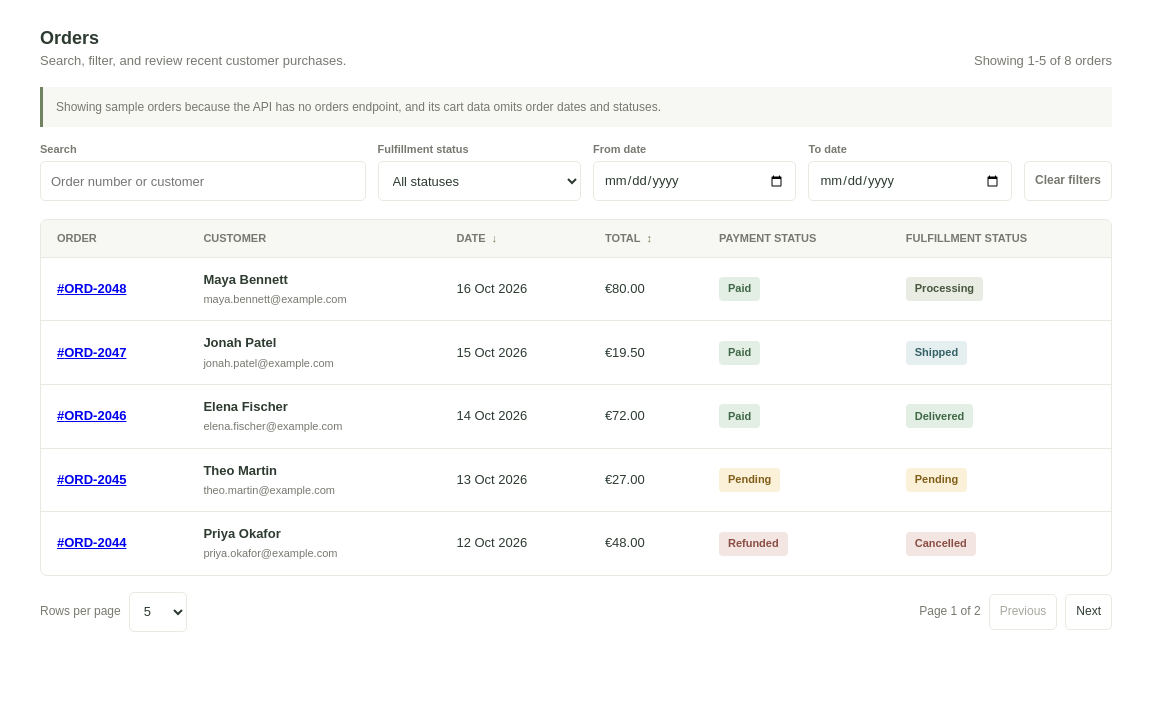
Test case: Orders workflows › filters the list and navigates to the selected order details
The width and height of the screenshot is (1152, 715).
Check: the table named "Orders with customer" is shown, box [41,220,1111,575]
Type "ORD-2046" into the search field labelled "Search" at coordinates (203, 181), box [40,161,366,201]
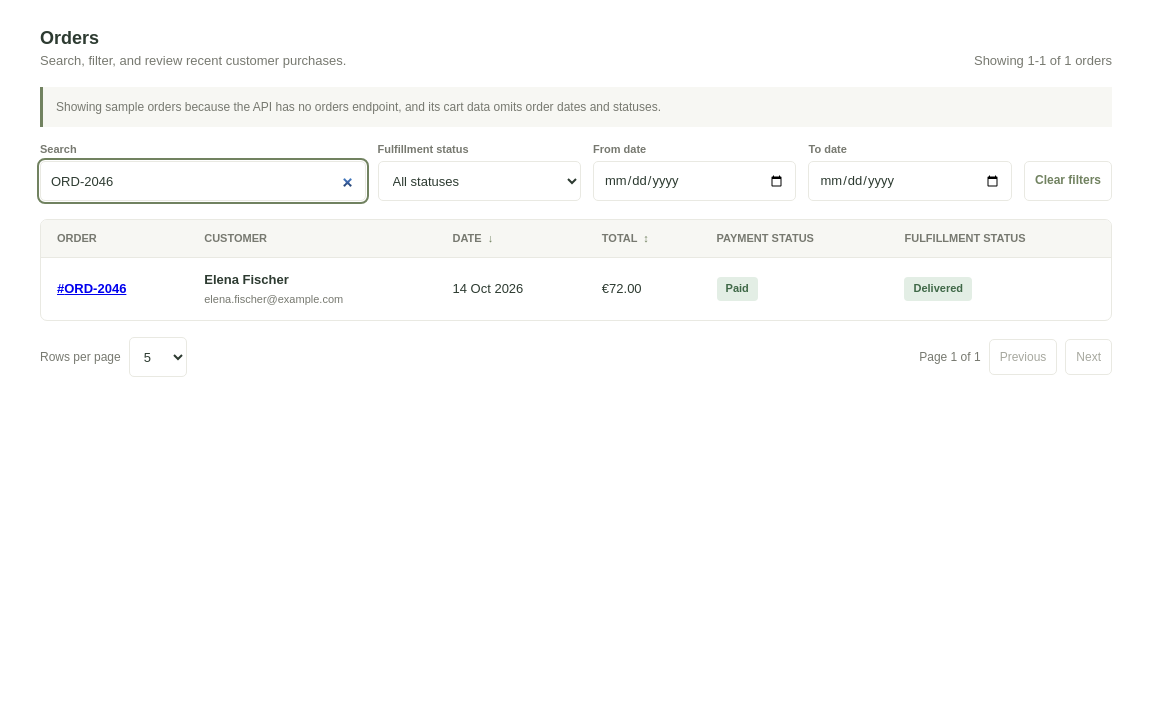
Select "Delivered" in the dropdown labelled "Fulfillment status" at coordinates (479, 181), box [378,161,581,201]
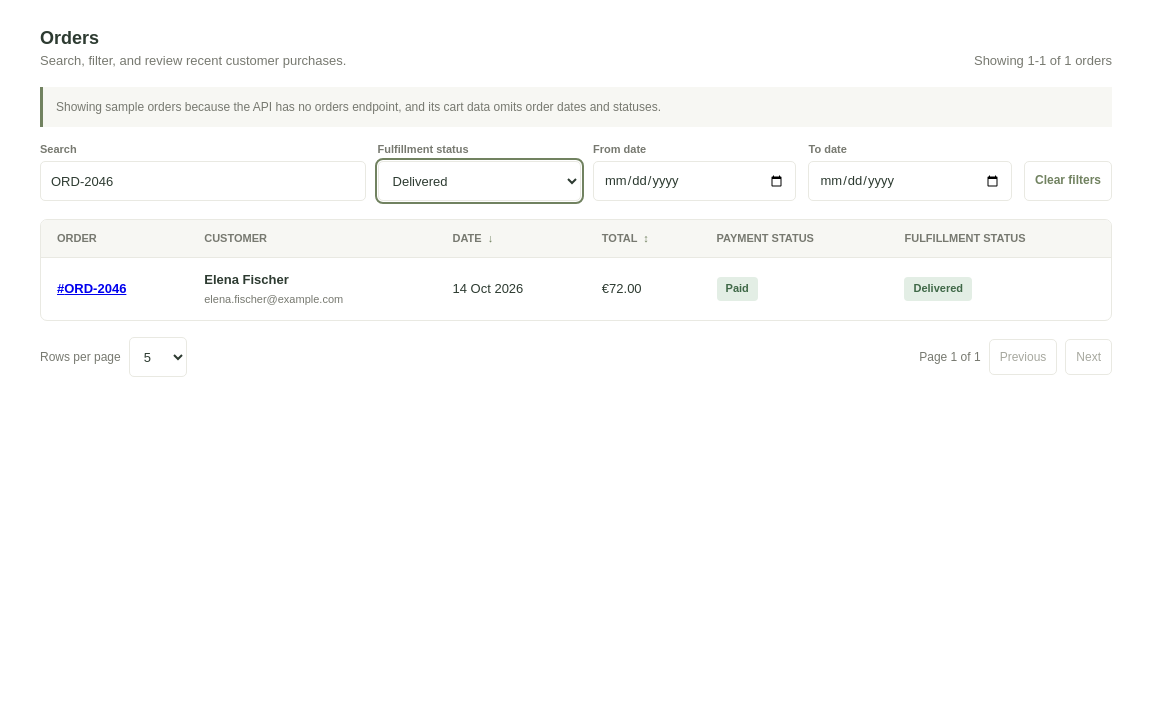
Check: the text "Elena Fischer" is shown, box [204,272,289,287]
Check: the link "ORD-2048" is not shown
Click the link "#ORD-2046" at coordinates (61, 289), box [57,281,126,296]
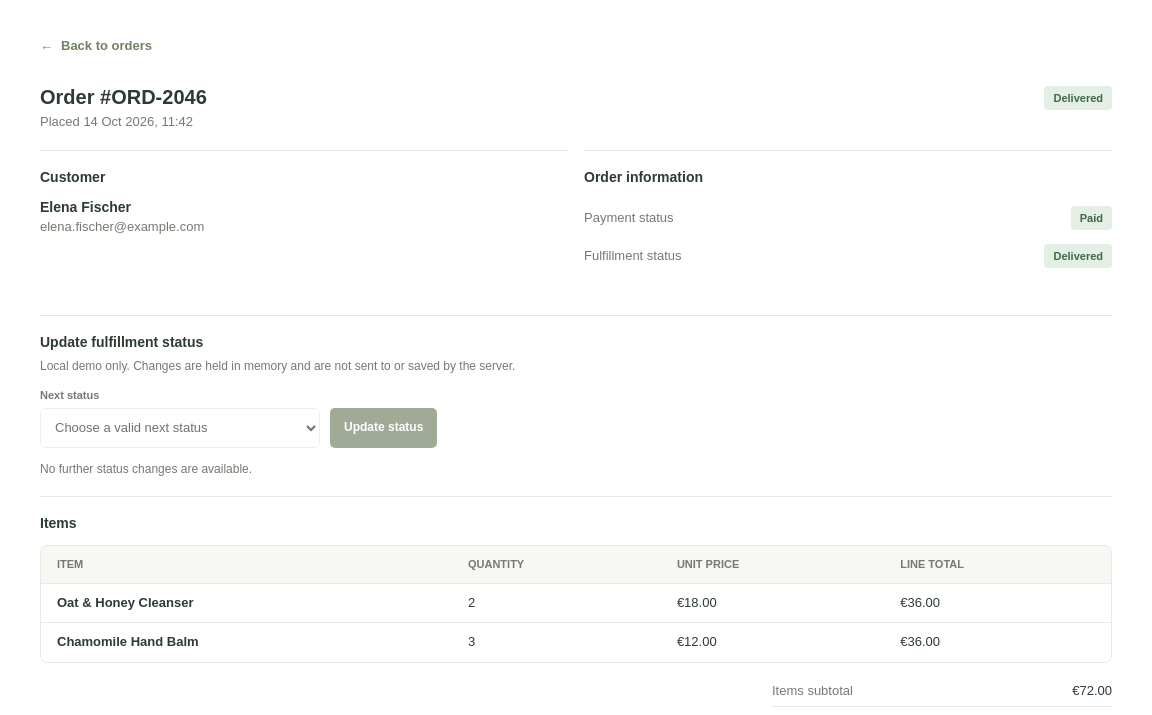
Check: the heading "Order #ORD-2046" is shown, box [40,86,207,109]
Check: the element "Customer" shows "Elena Fischer", box [40,199,131,215]
